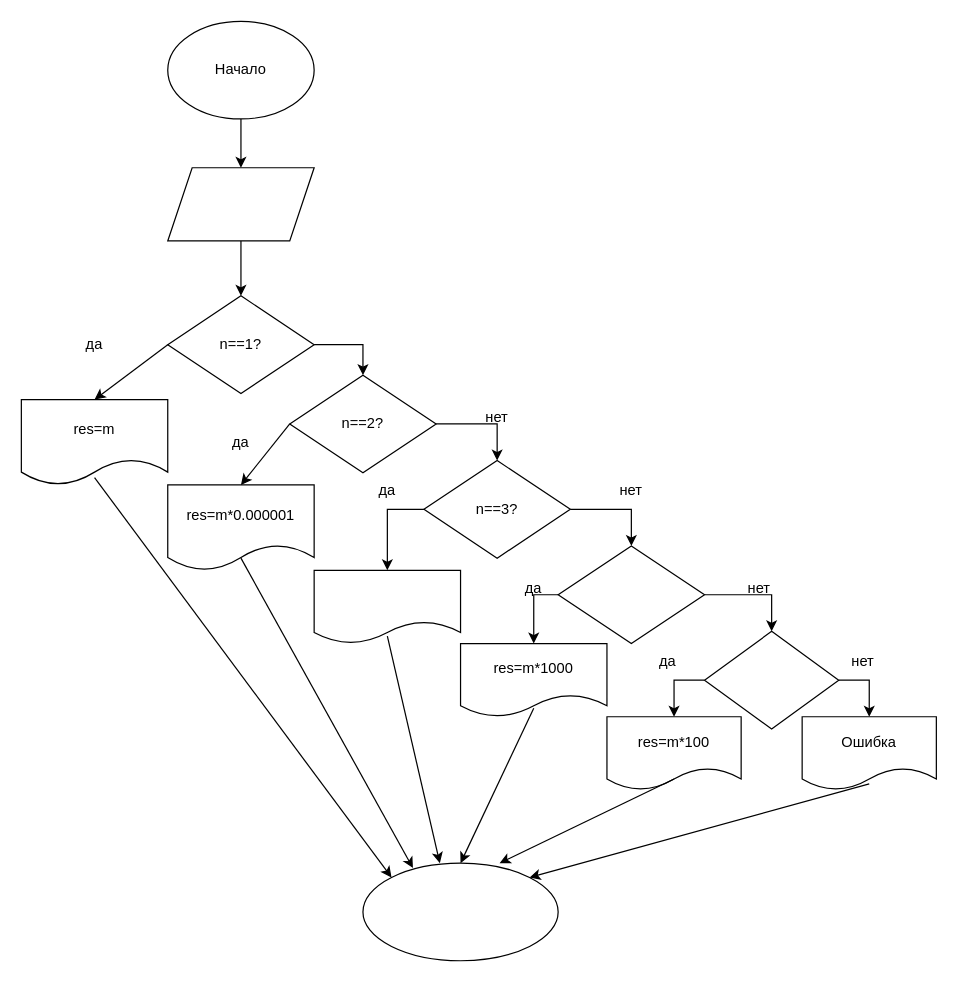
Some shapes in this 958 by 982 pixel diagram are drawn without their labels. Here are the shapes that lost their labels. From the top down, the centre of each, then its label:
At [240,204]: "Ввод n, m".
At [387,606]: "res=m*0.001".
At [631,594]: "n==4?".
At [771,679]: "n==5?".
At [460,911]: "Конец".
